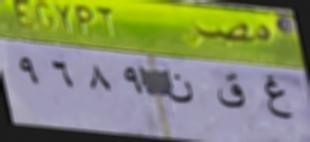6: (51, 58, 78, 91)
8: (85, 65, 117, 94)
9: (16, 51, 42, 87), (118, 66, 146, 99)
ghayn: (260, 70, 293, 129)
noon: (165, 69, 197, 106)
qaaf: (217, 70, 248, 115)
